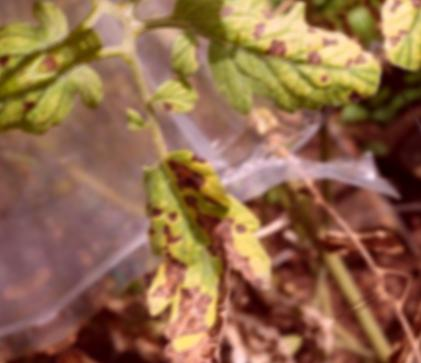Tomato Septoria leaf spot: (67, 125, 318, 363), (143, 0, 398, 179), (0, 32, 137, 181)
